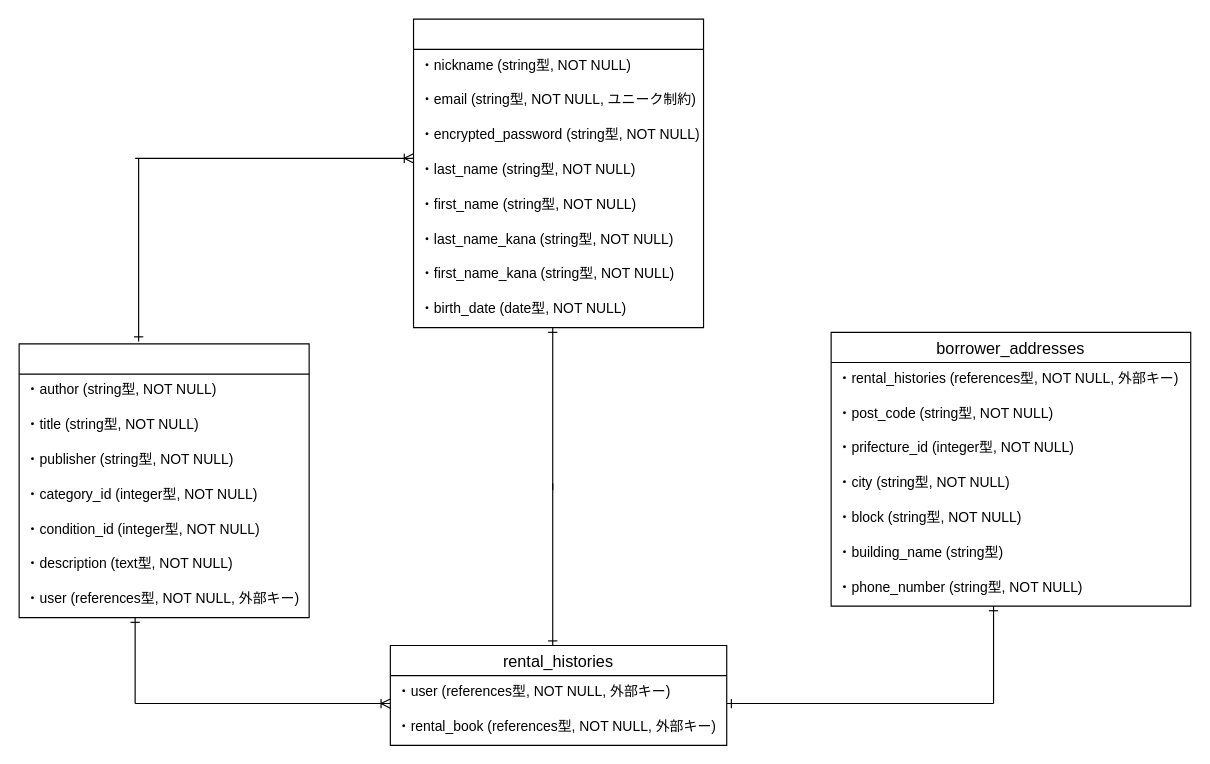
The diagram is 1210 pixels wide and 764 high, and some of its shapes have lost their labels. Each missing label, with the box of its shape:
rental_books: (18, 343, 309, 618)
users: (412, 18, 704, 328)
